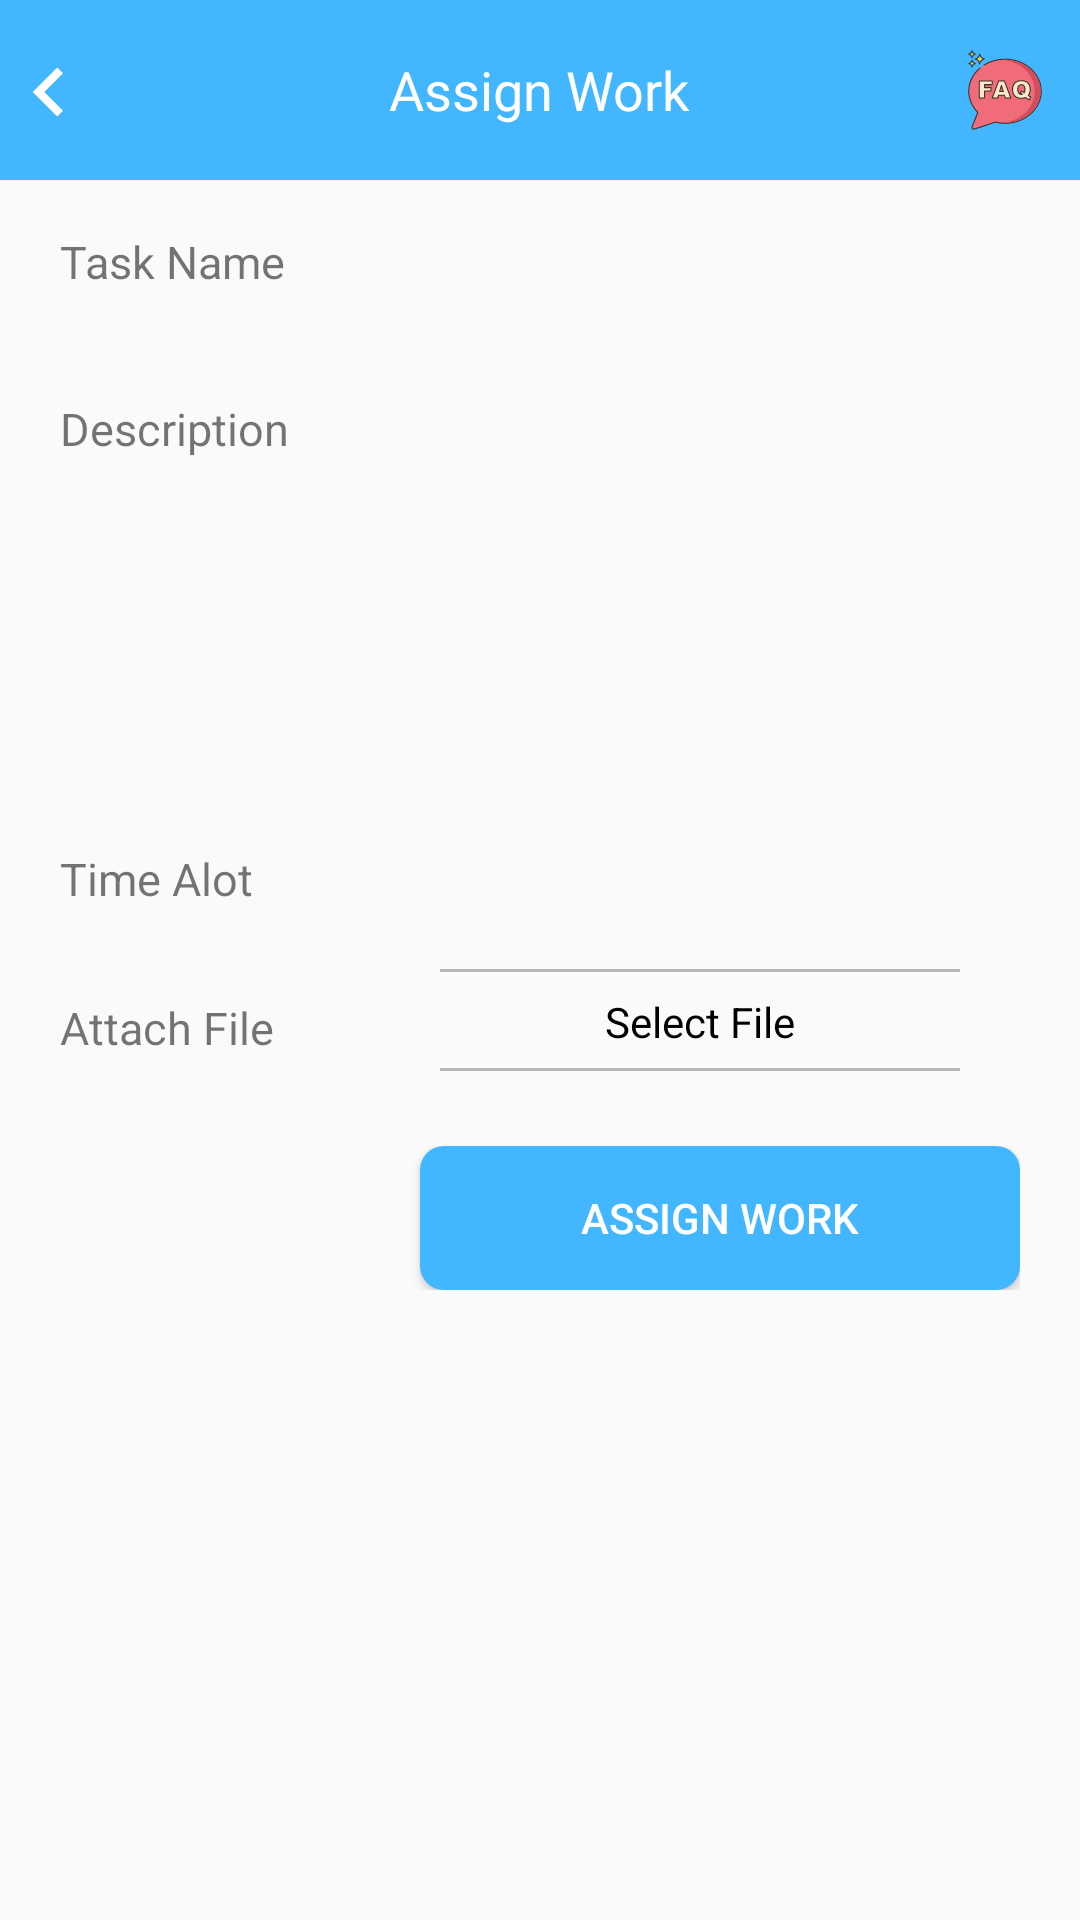

Icons on this 1080 x 1920 Android screen, each with its box as bbox=[x1, y1, x2, y2]:
keyboard arrow left: bbox=[33, 67, 63, 117]
